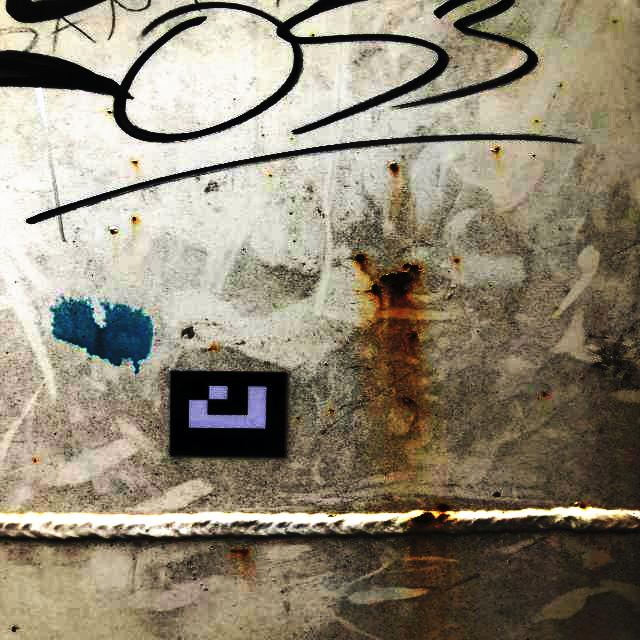Corrosion: (380, 271, 413, 296), (412, 512, 433, 525), (403, 263, 419, 274), (370, 284, 381, 295), (436, 514, 451, 521), (438, 503, 450, 511), (390, 161, 399, 171), (231, 549, 248, 554), (402, 396, 414, 403), (355, 254, 365, 262), (408, 333, 417, 339), (490, 147, 499, 153), (110, 227, 117, 234), (12, 626, 17, 632), (543, 390, 547, 396), (581, 504, 586, 508), (132, 217, 136, 220), (133, 160, 137, 163), (455, 259, 458, 262), (329, 515, 333, 517), (108, 111, 112, 113), (34, 459, 36, 462), (536, 120, 539, 122), (533, 154, 535, 156)
